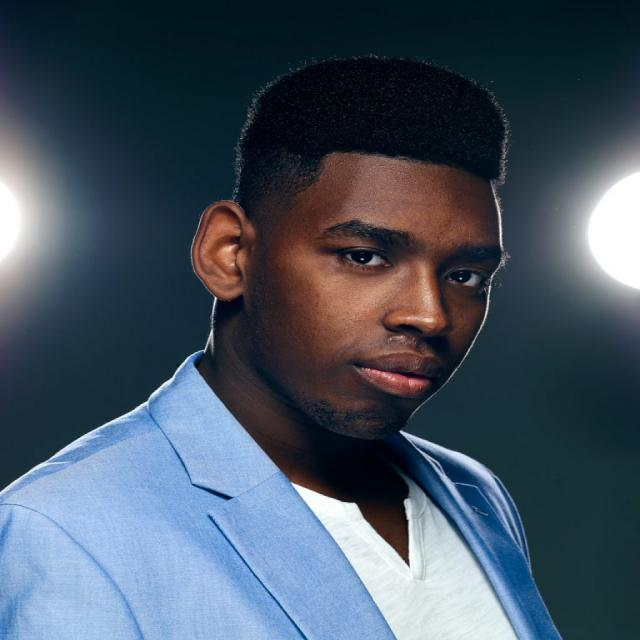nothing: (177, 43, 542, 207)
